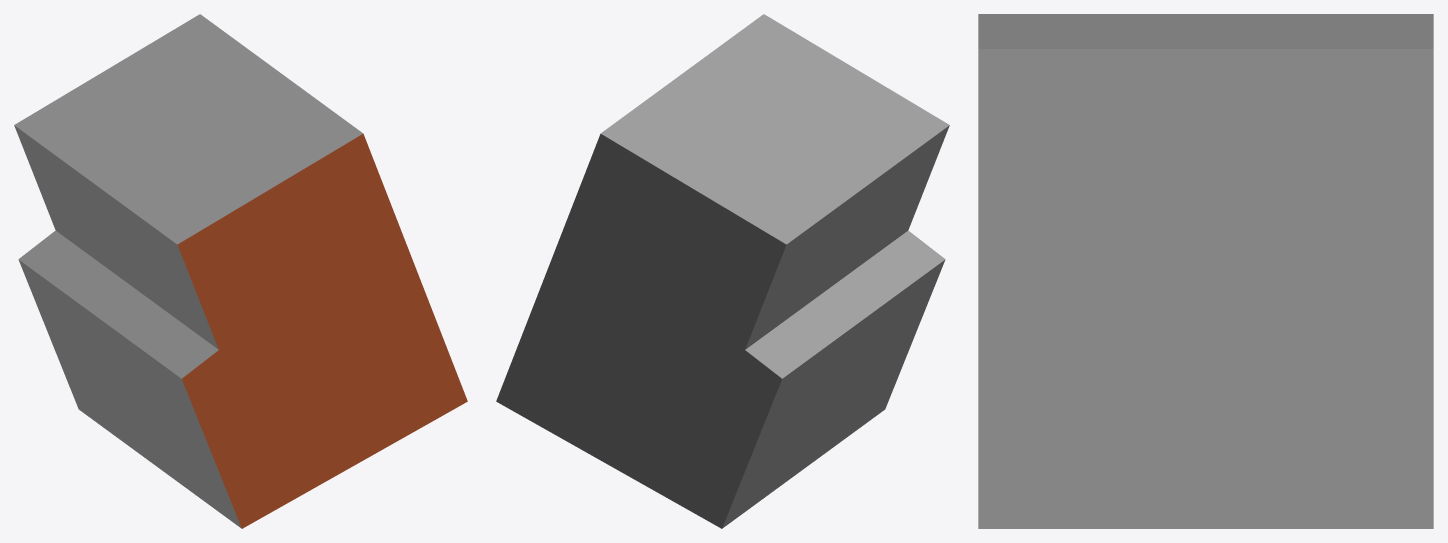
File: construction_1510_assumed_A_Casa_h6m.obj
The picture shows the model from 3 angles, left to right: view 1: azimuth 30°, elevation 25°; view 2: azimuth 150°, elevation 25°; view 3: azimuth 270°, elevation 25°; orthographic projection. The views are drawn at different scales.
Visible parts, largest first — view 1: construction_1510_assumed_A_Casa; view 2: construction_1510_assumed_A_Casa; view 3: construction_1510_assumed_A_Casa.
Part boxes in pixels (x1=…): construction_1510_assumed_A_Casa: x1=14, y1=14, x2=467, y2=528; construction_1510_assumed_A_Casa: x1=496, y1=14, x2=949, y2=528; construction_1510_assumed_A_Casa: x1=978, y1=14, x2=1433, y2=528.
Bounding box in the file's own units: 6.16 × 7.41 × 6.
